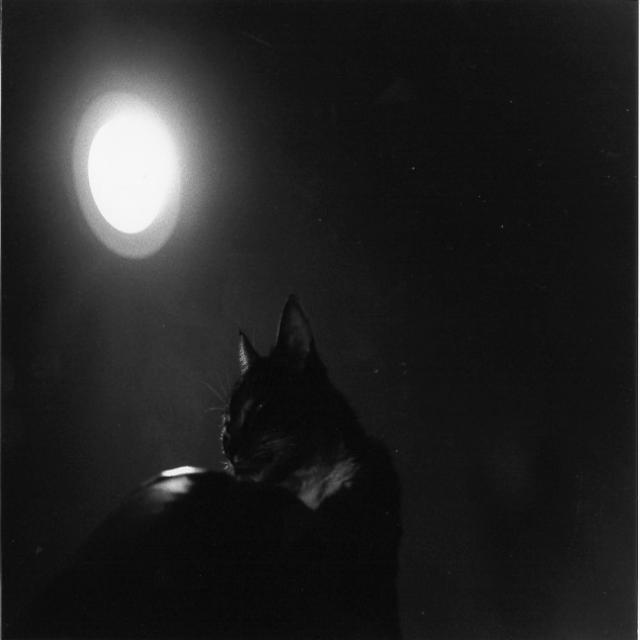Cat: (191, 278, 445, 637)
